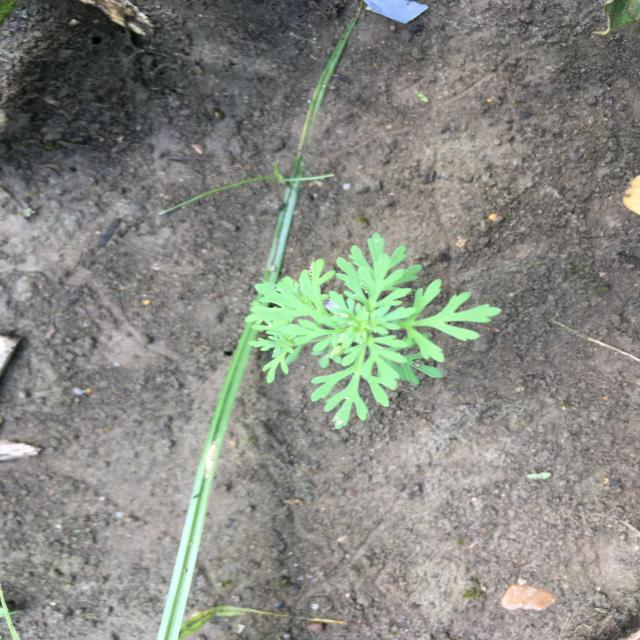Ragweed: (242, 231, 504, 430)
